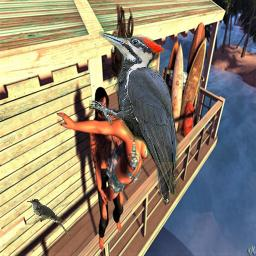Cuckoo: (27, 199, 71, 237)
Woodpecker: (89, 31, 185, 206)
